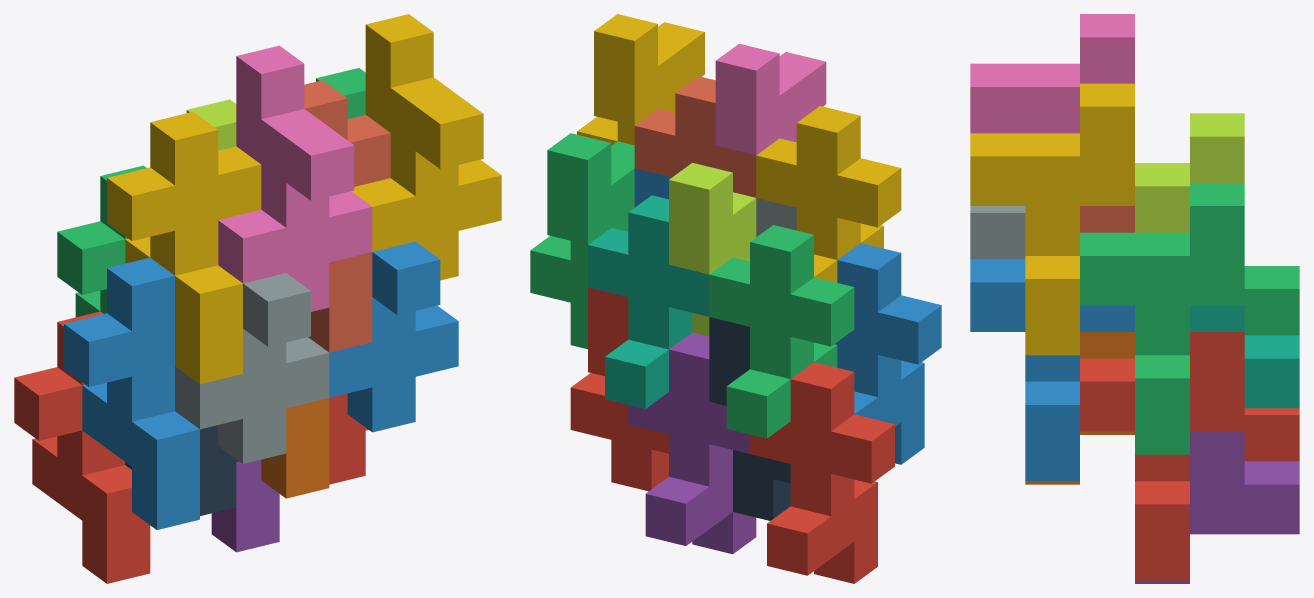
Rendered from tiling.obj.
3 views of the same model, side by side, from view 1: azimuth 30°, elevation 25°; view 2: azimuth 150°, elevation 25°; view 3: azimuth 270°, elevation 25° (orthographic). The views are drawn at different scales.
Visible parts, largest first — view 1: copy_2_domain_4, copy_1_domain_4, copy_2_domain_8, copy_1_domain_2, copy_2_domain_2, copy_1_domain_1, copy_2_domain_6, copy_1_domain_8, copy_1_domain_3, copy_1_domain_6, copy_1_domain_5, copy_2_domain_1 (+3 smaller); view 2: copy_1_domain_1, copy_1_domain_3, copy_1_domain_5, copy_1_domain_4, copy_1_domain_7, copy_1_domain_2, copy_2_domain_7, copy_2_domain_8, copy_2_domain_4, copy_2_domain_5, copy_2_domain_3, copy_1_domain_8 (+3 smaller); view 3: copy_2_domain_7, copy_2_domain_8, copy_2_domain_5, copy_2_domain_6, copy_2_domain_4, copy_1_domain_5, copy_2_domain_3, copy_1_domain_7, copy_1_domain_3, copy_1_domain_1, copy_2_domain_2, copy_1_domain_6 (+1 smaller).
Boxes of the visible parts, bbox=[...] form: copy_2_domain_4: bbox=[218, 45, 372, 311]; copy_1_domain_4: bbox=[107, 112, 261, 384]; copy_2_domain_8: bbox=[351, 14, 501, 280]; copy_1_domain_2: bbox=[64, 257, 199, 529]; copy_2_domain_2: bbox=[175, 273, 329, 463]; copy_1_domain_1: bbox=[14, 311, 150, 583]; copy_2_domain_6: bbox=[329, 241, 458, 432]; copy_1_domain_8: bbox=[304, 80, 390, 352]; copy_1_domain_3: bbox=[57, 165, 146, 317]; copy_1_domain_6: bbox=[261, 398, 329, 498]; copy_1_domain_5: bbox=[211, 459, 279, 552]; copy_2_domain_1: bbox=[125, 425, 239, 515]; copy_1_domain_1: bbox=[750, 362, 894, 583]; copy_1_domain_3: bbox=[709, 225, 854, 438]; copy_1_domain_5: bbox=[628, 332, 756, 554]; copy_1_domain_4: bbox=[756, 106, 901, 282]; copy_1_domain_7: bbox=[588, 195, 709, 408]; copy_1_domain_2: bbox=[834, 243, 941, 464]; copy_2_domain_7: bbox=[530, 133, 634, 349]; copy_2_domain_8: bbox=[577, 14, 704, 145]; copy_2_domain_4: bbox=[715, 43, 826, 155]; copy_2_domain_5: bbox=[570, 287, 668, 491]; copy_2_domain_3: bbox=[669, 163, 756, 336]; copy_1_domain_8: bbox=[634, 76, 756, 197]; copy_2_domain_7: bbox=[1080, 183, 1244, 454]; copy_2_domain_8: bbox=[970, 83, 1134, 355]; copy_2_domain_5: bbox=[1080, 332, 1244, 580]; copy_2_domain_6: bbox=[970, 259, 1134, 481]; copy_2_domain_4: bbox=[970, 14, 1134, 133]; copy_1_domain_5: bbox=[1135, 431, 1299, 583]; copy_2_domain_3: bbox=[1135, 113, 1244, 232]; copy_1_domain_7: bbox=[1190, 305, 1299, 408]; copy_1_domain_3: bbox=[1244, 266, 1299, 335]; copy_1_domain_1: bbox=[1244, 408, 1299, 461]; copy_2_domain_2: bbox=[970, 206, 1025, 259]; copy_1_domain_6: bbox=[1025, 332, 1134, 484].
Bounding box in the file's own units: 9 × 11 × 6.
